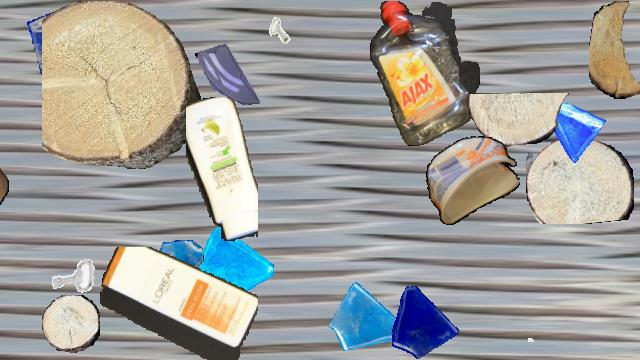glass: (180, 225, 274, 319), (27, 1, 119, 93), (328, 279, 408, 359), (383, 281, 461, 359), (536, 94, 606, 164), (194, 38, 264, 108), (144, 240, 204, 300)
metal: (99, 93, 157, 151), (46, 248, 102, 304), (261, 12, 299, 50), (503, 311, 541, 349)
plastic: (100, 247, 258, 359), (369, 1, 479, 145), (186, 97, 258, 241), (426, 136, 520, 226)
wood: (42, 1, 200, 169), (526, 136, 634, 224), (469, 93, 569, 147), (589, 1, 640, 99), (42, 295, 100, 353), (0, 142, 8, 210)
